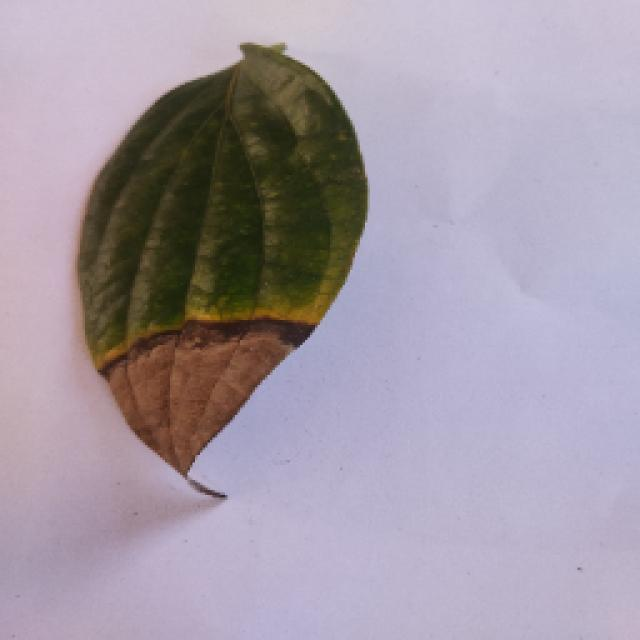footrot: (72, 42, 368, 498)
